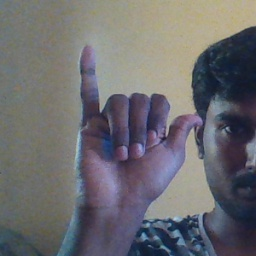J: (75, 44, 204, 205)
